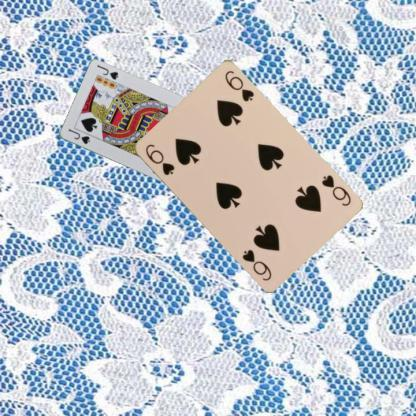6s: (142, 141, 176, 177), (318, 172, 352, 208)
Js: (65, 126, 91, 146)
